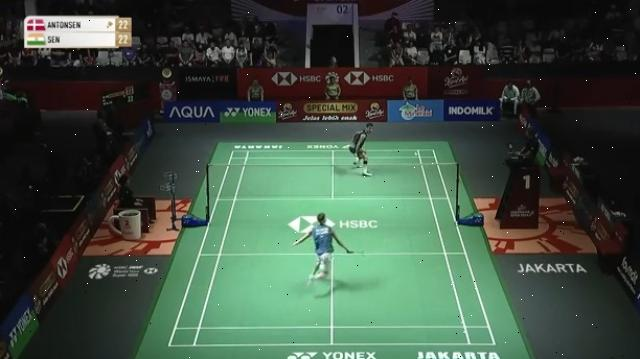Shuttlecock: (412, 150, 422, 158)
